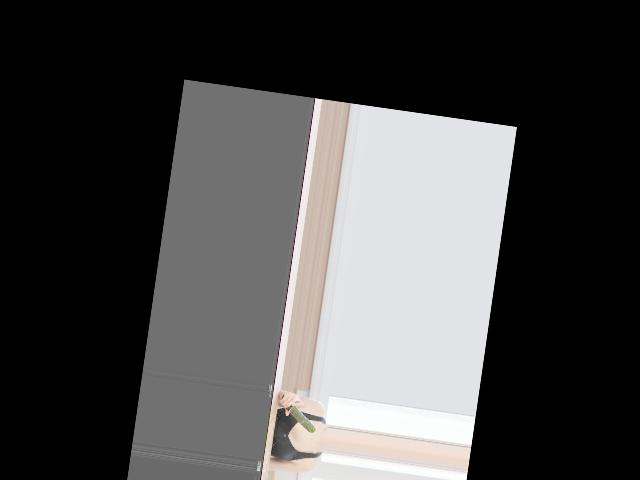cucumber: (276, 394, 321, 433)
